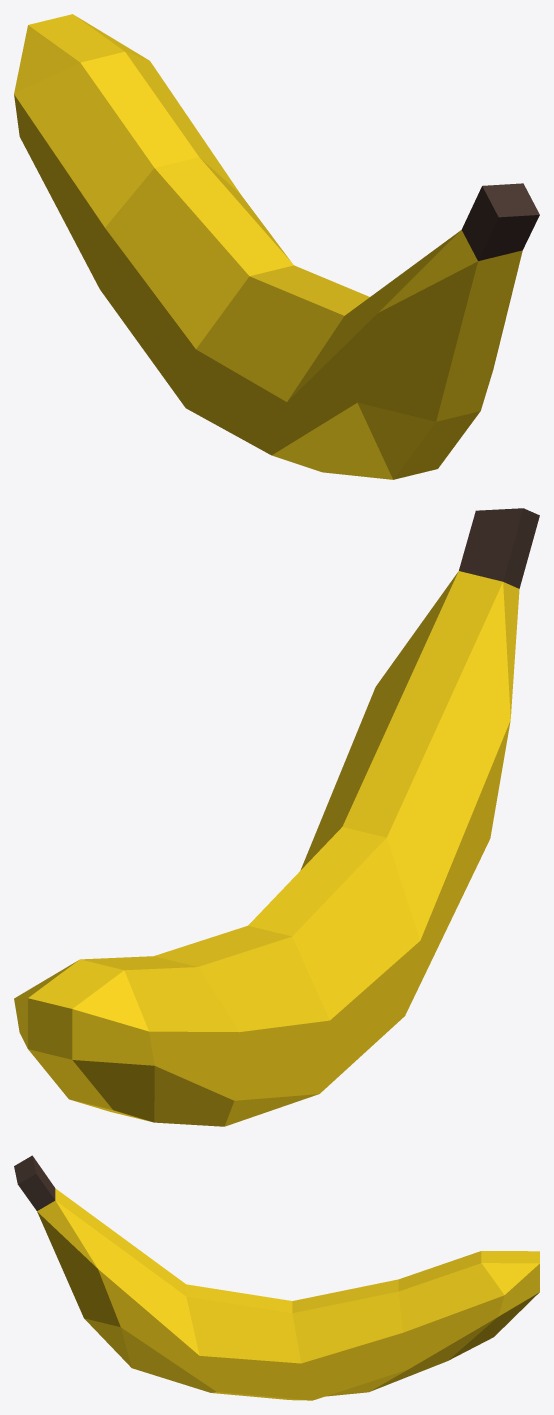
File: Банан(целый).fbx
The picture shows the model from 3 angles, top to bottom: view 1: azimuth 30°, elevation 25°; view 2: azimuth 150°, elevation 25°; view 3: azimuth 270°, elevation 25°; orthographic projection. The views are drawn at different scales.
Parts seen in each view (by area): view 1: Cube; view 2: Cube; view 3: Cube.
Boxes of the visible parts, box(x1,y1,x2,y2) form: Cube: box(14, 14, 539, 479); Cube: box(14, 508, 539, 1126); Cube: box(14, 1155, 539, 1400).
Bounding box in the file's own units: 68.52 × 200 × 411.
